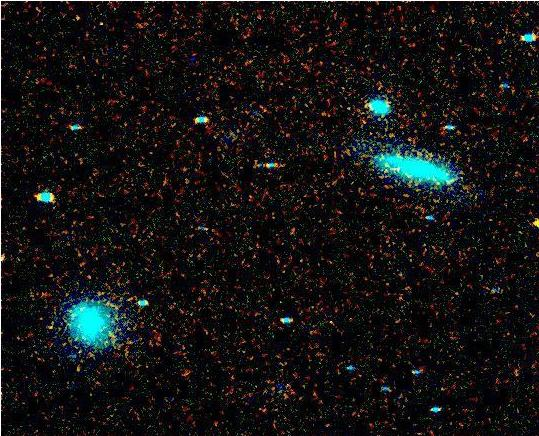star: (521, 207, 539, 237)
